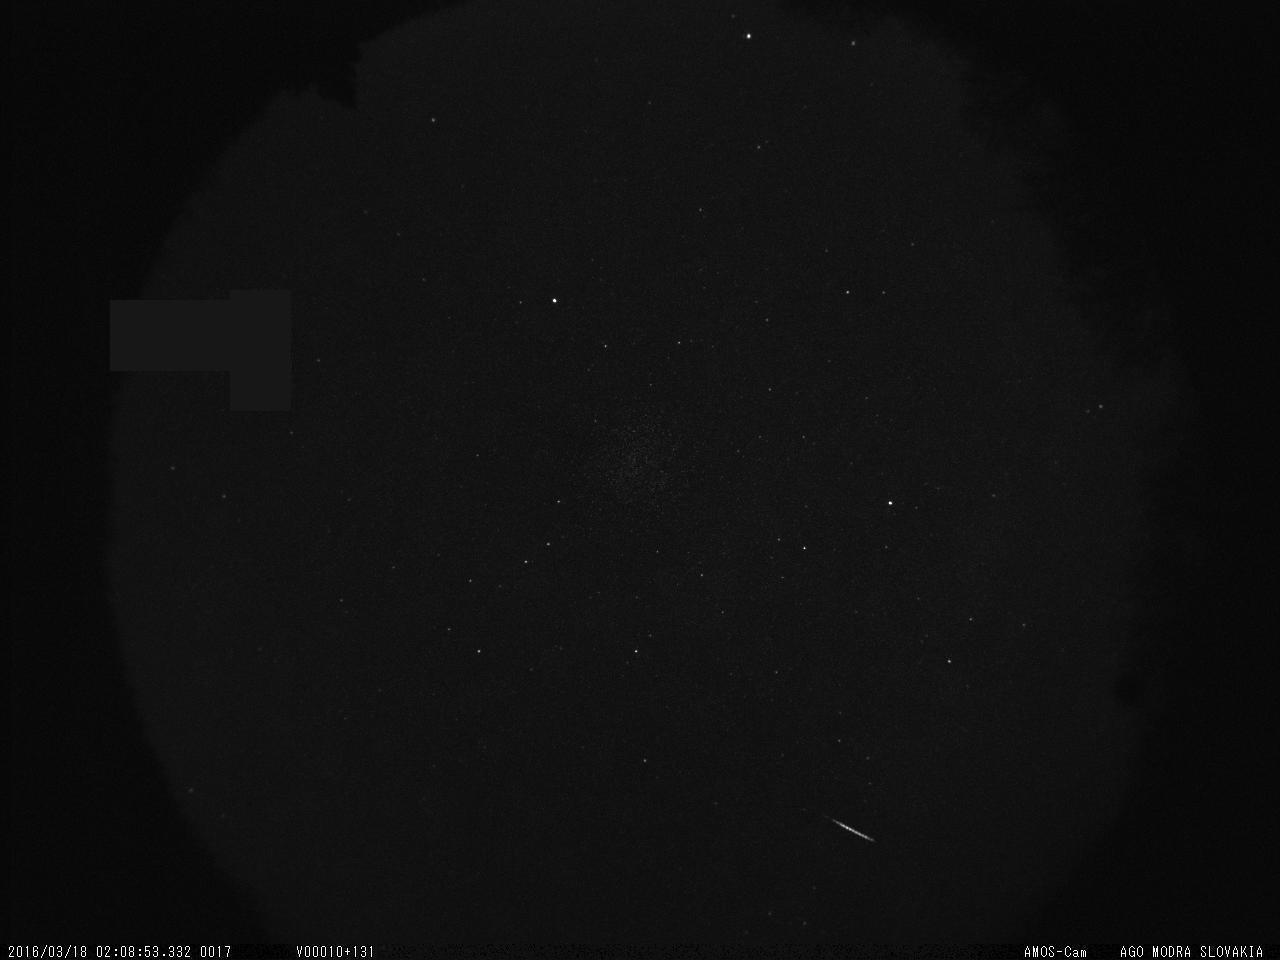Meteor: (827, 815, 876, 844)
